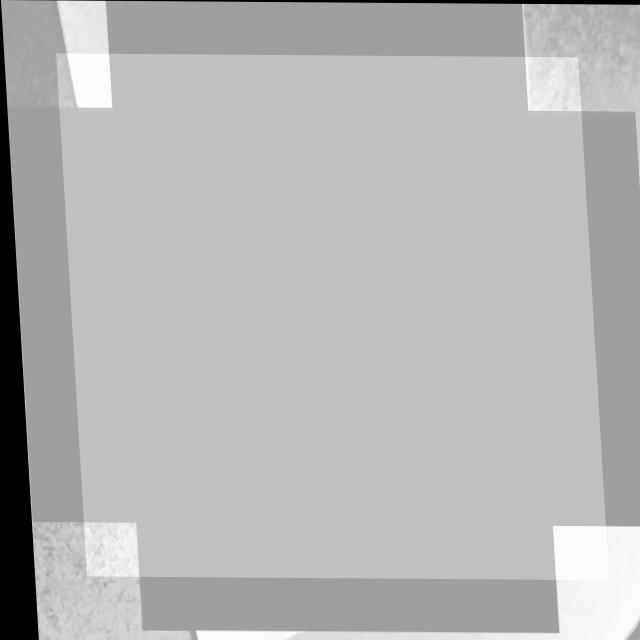qr_code: (54, 53, 601, 579)
